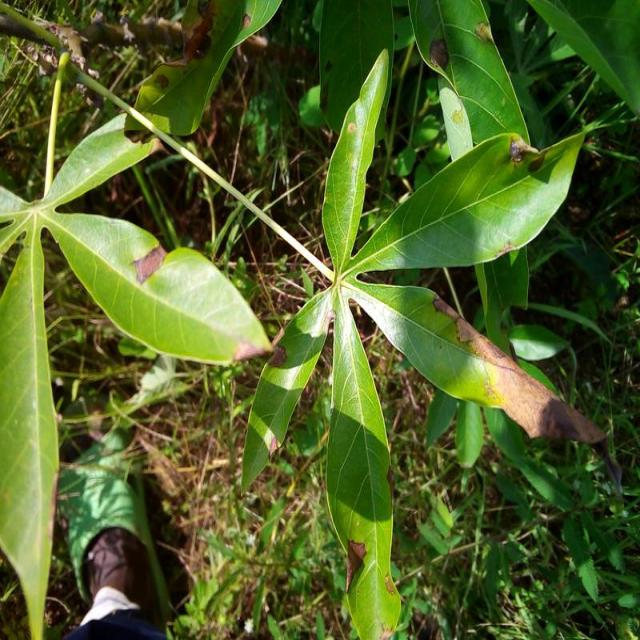cassava leaf: (42, 208, 273, 366), (344, 126, 586, 276), (324, 287, 402, 638), (320, 47, 390, 275)
